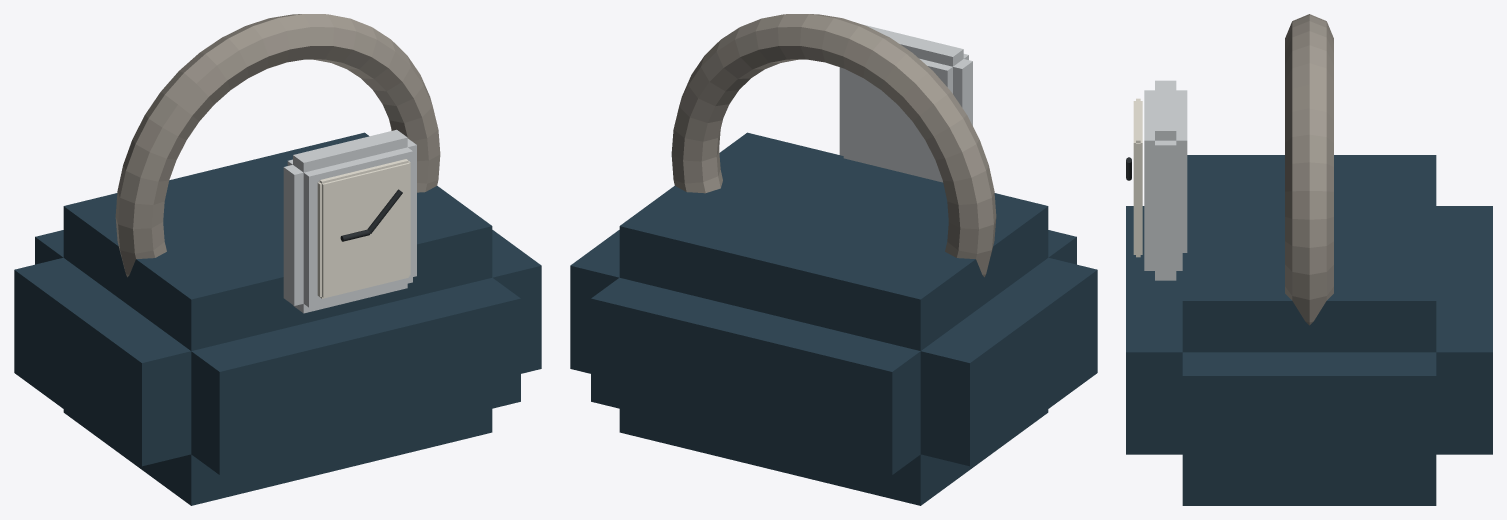
File: sku_v24_watch.glb
3 views of the same model, side by side, from view 1: azimuth 30°, elevation 25°; view 2: azimuth 150°, elevation 25°; view 3: azimuth 270°, elevation 25° (orthographic).
Visible parts, largest first — view 1: sku_v24_watch_V24_velvet_blue, sku_v24_watch_V24_greige_wool, sku_v24_watch_V24_warm_ceramic, sku_v24_watch_V24_brushed_silver; view 2: sku_v24_watch_V24_velvet_blue, sku_v24_watch_V24_greige_wool, sku_v24_watch_V24_brushed_silver; view 3: sku_v24_watch_V24_velvet_blue, sku_v24_watch_V24_greige_wool, sku_v24_watch_V24_brushed_silver, sku_v24_watch_V24_warm_ceramic.
Boxes of the visible parts, x1,y1,x2,y2 form: sku_v24_watch_V24_velvet_blue: (14, 132, 541, 505); sku_v24_watch_V24_greige_wool: (115, 14, 440, 277); sku_v24_watch_V24_warm_ceramic: (317, 159, 410, 298); sku_v24_watch_V24_brushed_silver: (283, 129, 416, 313); sku_v24_watch_V24_velvet_blue: (570, 132, 1097, 505); sku_v24_watch_V24_greige_wool: (671, 14, 996, 277); sku_v24_watch_V24_brushed_silver: (839, 24, 972, 182); sku_v24_watch_V24_velvet_blue: (1126, 155, 1492, 505); sku_v24_watch_V24_greige_wool: (1285, 14, 1333, 325); sku_v24_watch_V24_brushed_silver: (1144, 80, 1187, 280); sku_v24_watch_V24_warm_ceramic: (1133, 98, 1142, 257).
Size of the model in its own units: 0.15 by 0.145 by 0.12.
